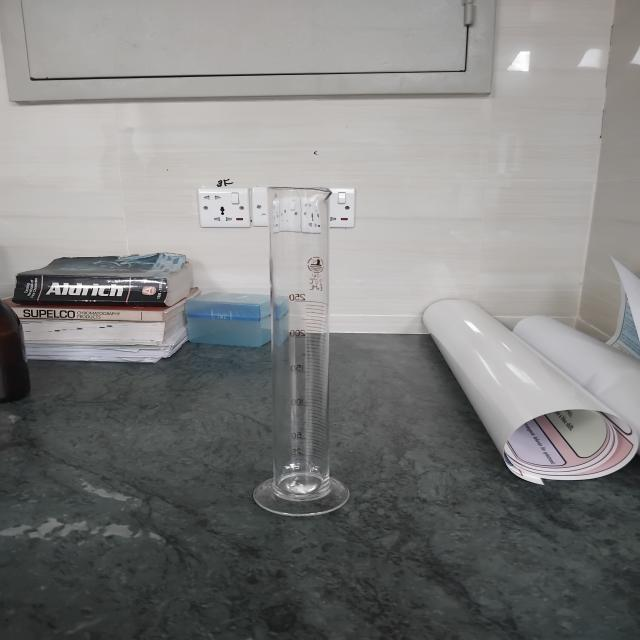Measuring_Cylinder: (230, 160, 398, 542)
